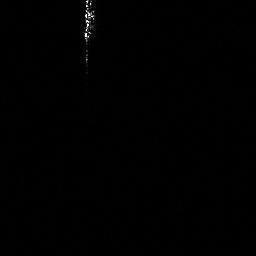ship: (80, 1, 105, 69)
